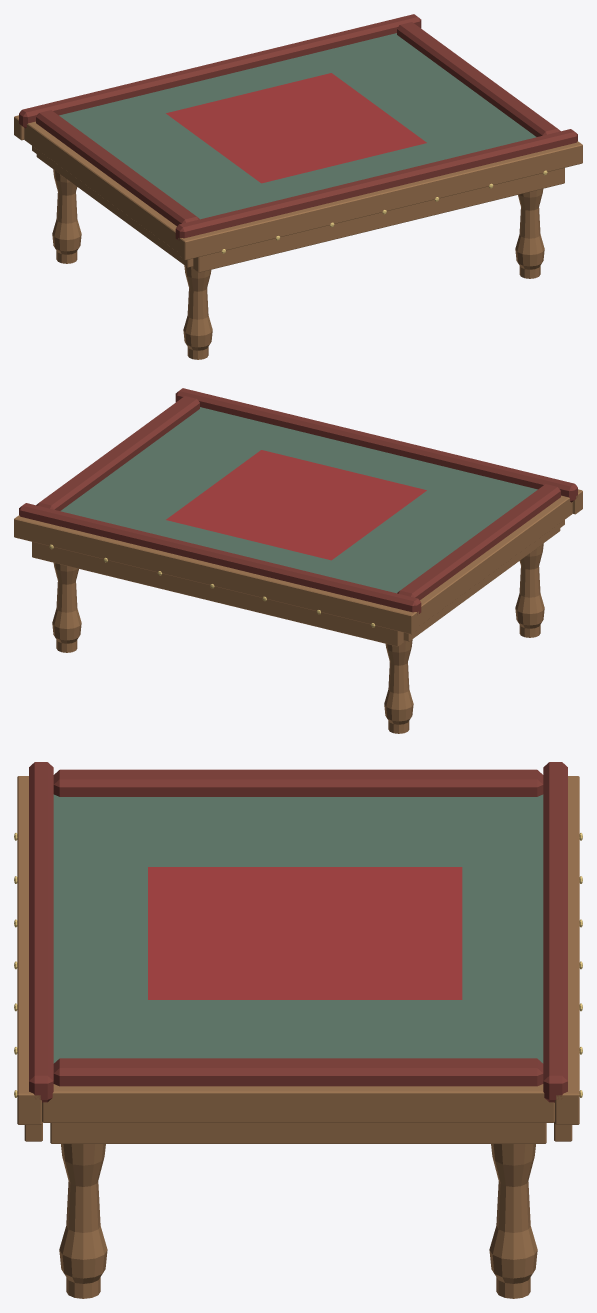
The model's file is table.glb.
3 renders of one model, top to bottom at view 1: azimuth 30°, elevation 25°; view 2: azimuth 150°, elevation 25°; view 3: azimuth 270°, elevation 25°, orthographic. The views are drawn at different scales.
Visible parts, largest first — view 1: Table; view 2: Table; view 3: Table.
Part boxes in pixels (<box>): Table: <box>14,14,582,359</box>; Table: <box>14,388,582,733</box>; Table: <box>14,762,582,1298</box>.
Size of the model in its own units: 2.28 by 0.8 by 1.72.
